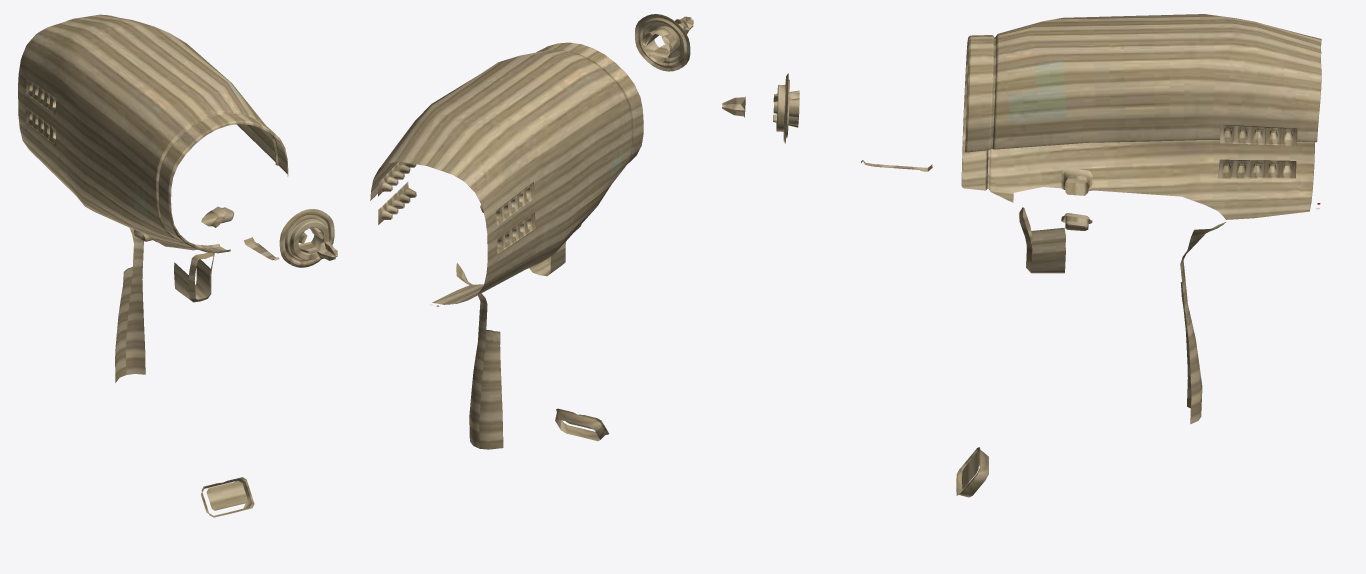
Rendered from Drill.obj.
The picture shows the model from 3 angles, left to right: view 1: azimuth 30°, elevation 25°; view 2: azimuth 150°, elevation 25°; view 3: azimuth 270°, elevation 25°; orthographic projection. The views are drawn at different scales.
Size of the model in its own units: 12 by 35.76 by 41.39.
